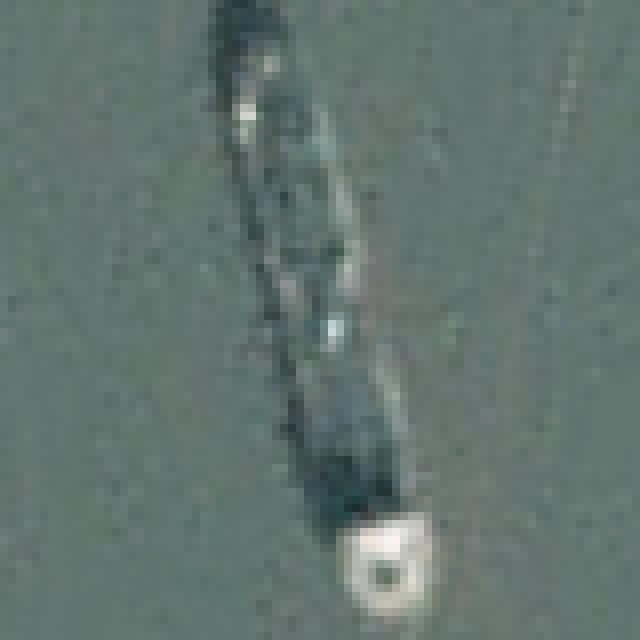ship: (184, 2, 520, 640)
